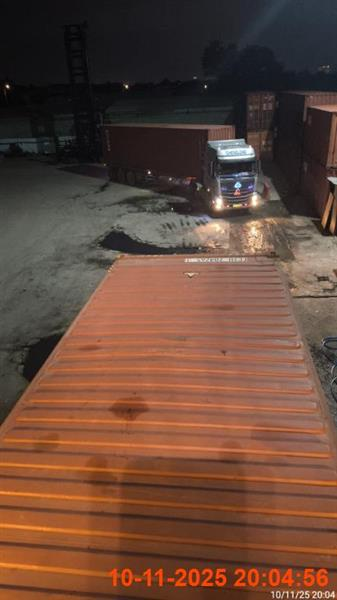broken: (99, 122, 261, 217)
